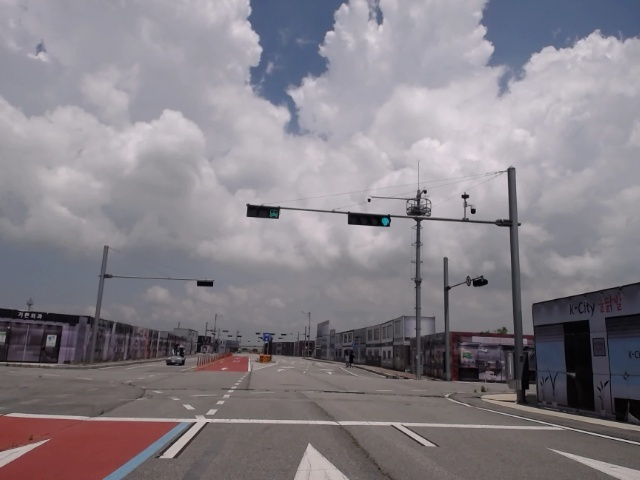straight_green_4: (347, 213, 394, 229)
